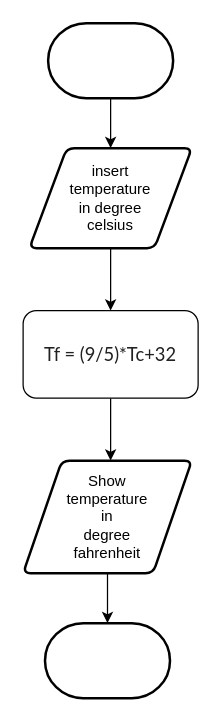
The diagram is 220 pixels wide and 720 high, and some of its shapes have lost their labels. The shapes that lost their labels are listed below. From the top down, each one's box as (x1, y1, x2, y2) in pixels, then its label:
(46, 21, 174, 99): Start
(43, 621, 171, 699): Stop
